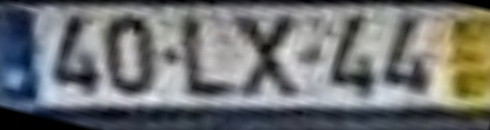0: (99, 14, 158, 104)
4: (325, 17, 383, 107), (381, 16, 436, 102), (50, 15, 104, 102)
L: (180, 16, 239, 102)
X: (229, 16, 301, 104)
